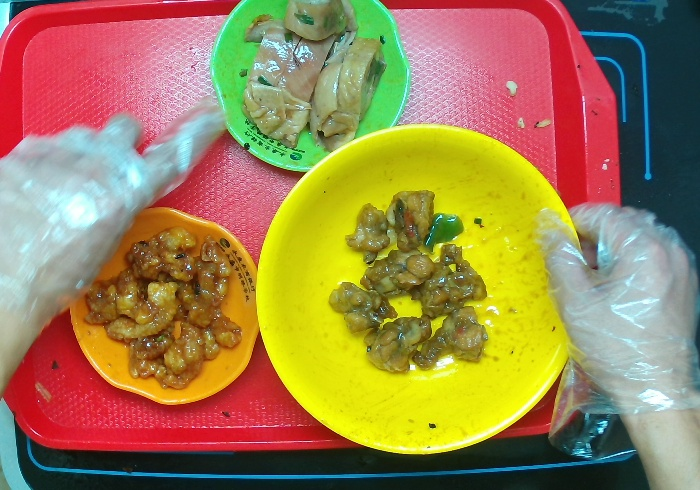YKMZ-Huang_Se_Tang_Wan: (251, 113, 597, 460)
YKMZ-Ju_Se_Ao_Bian_Wan: (59, 189, 266, 411)
YKMZ-Lv_Se_Ao_Bian_Wan: (202, 1, 418, 190)
